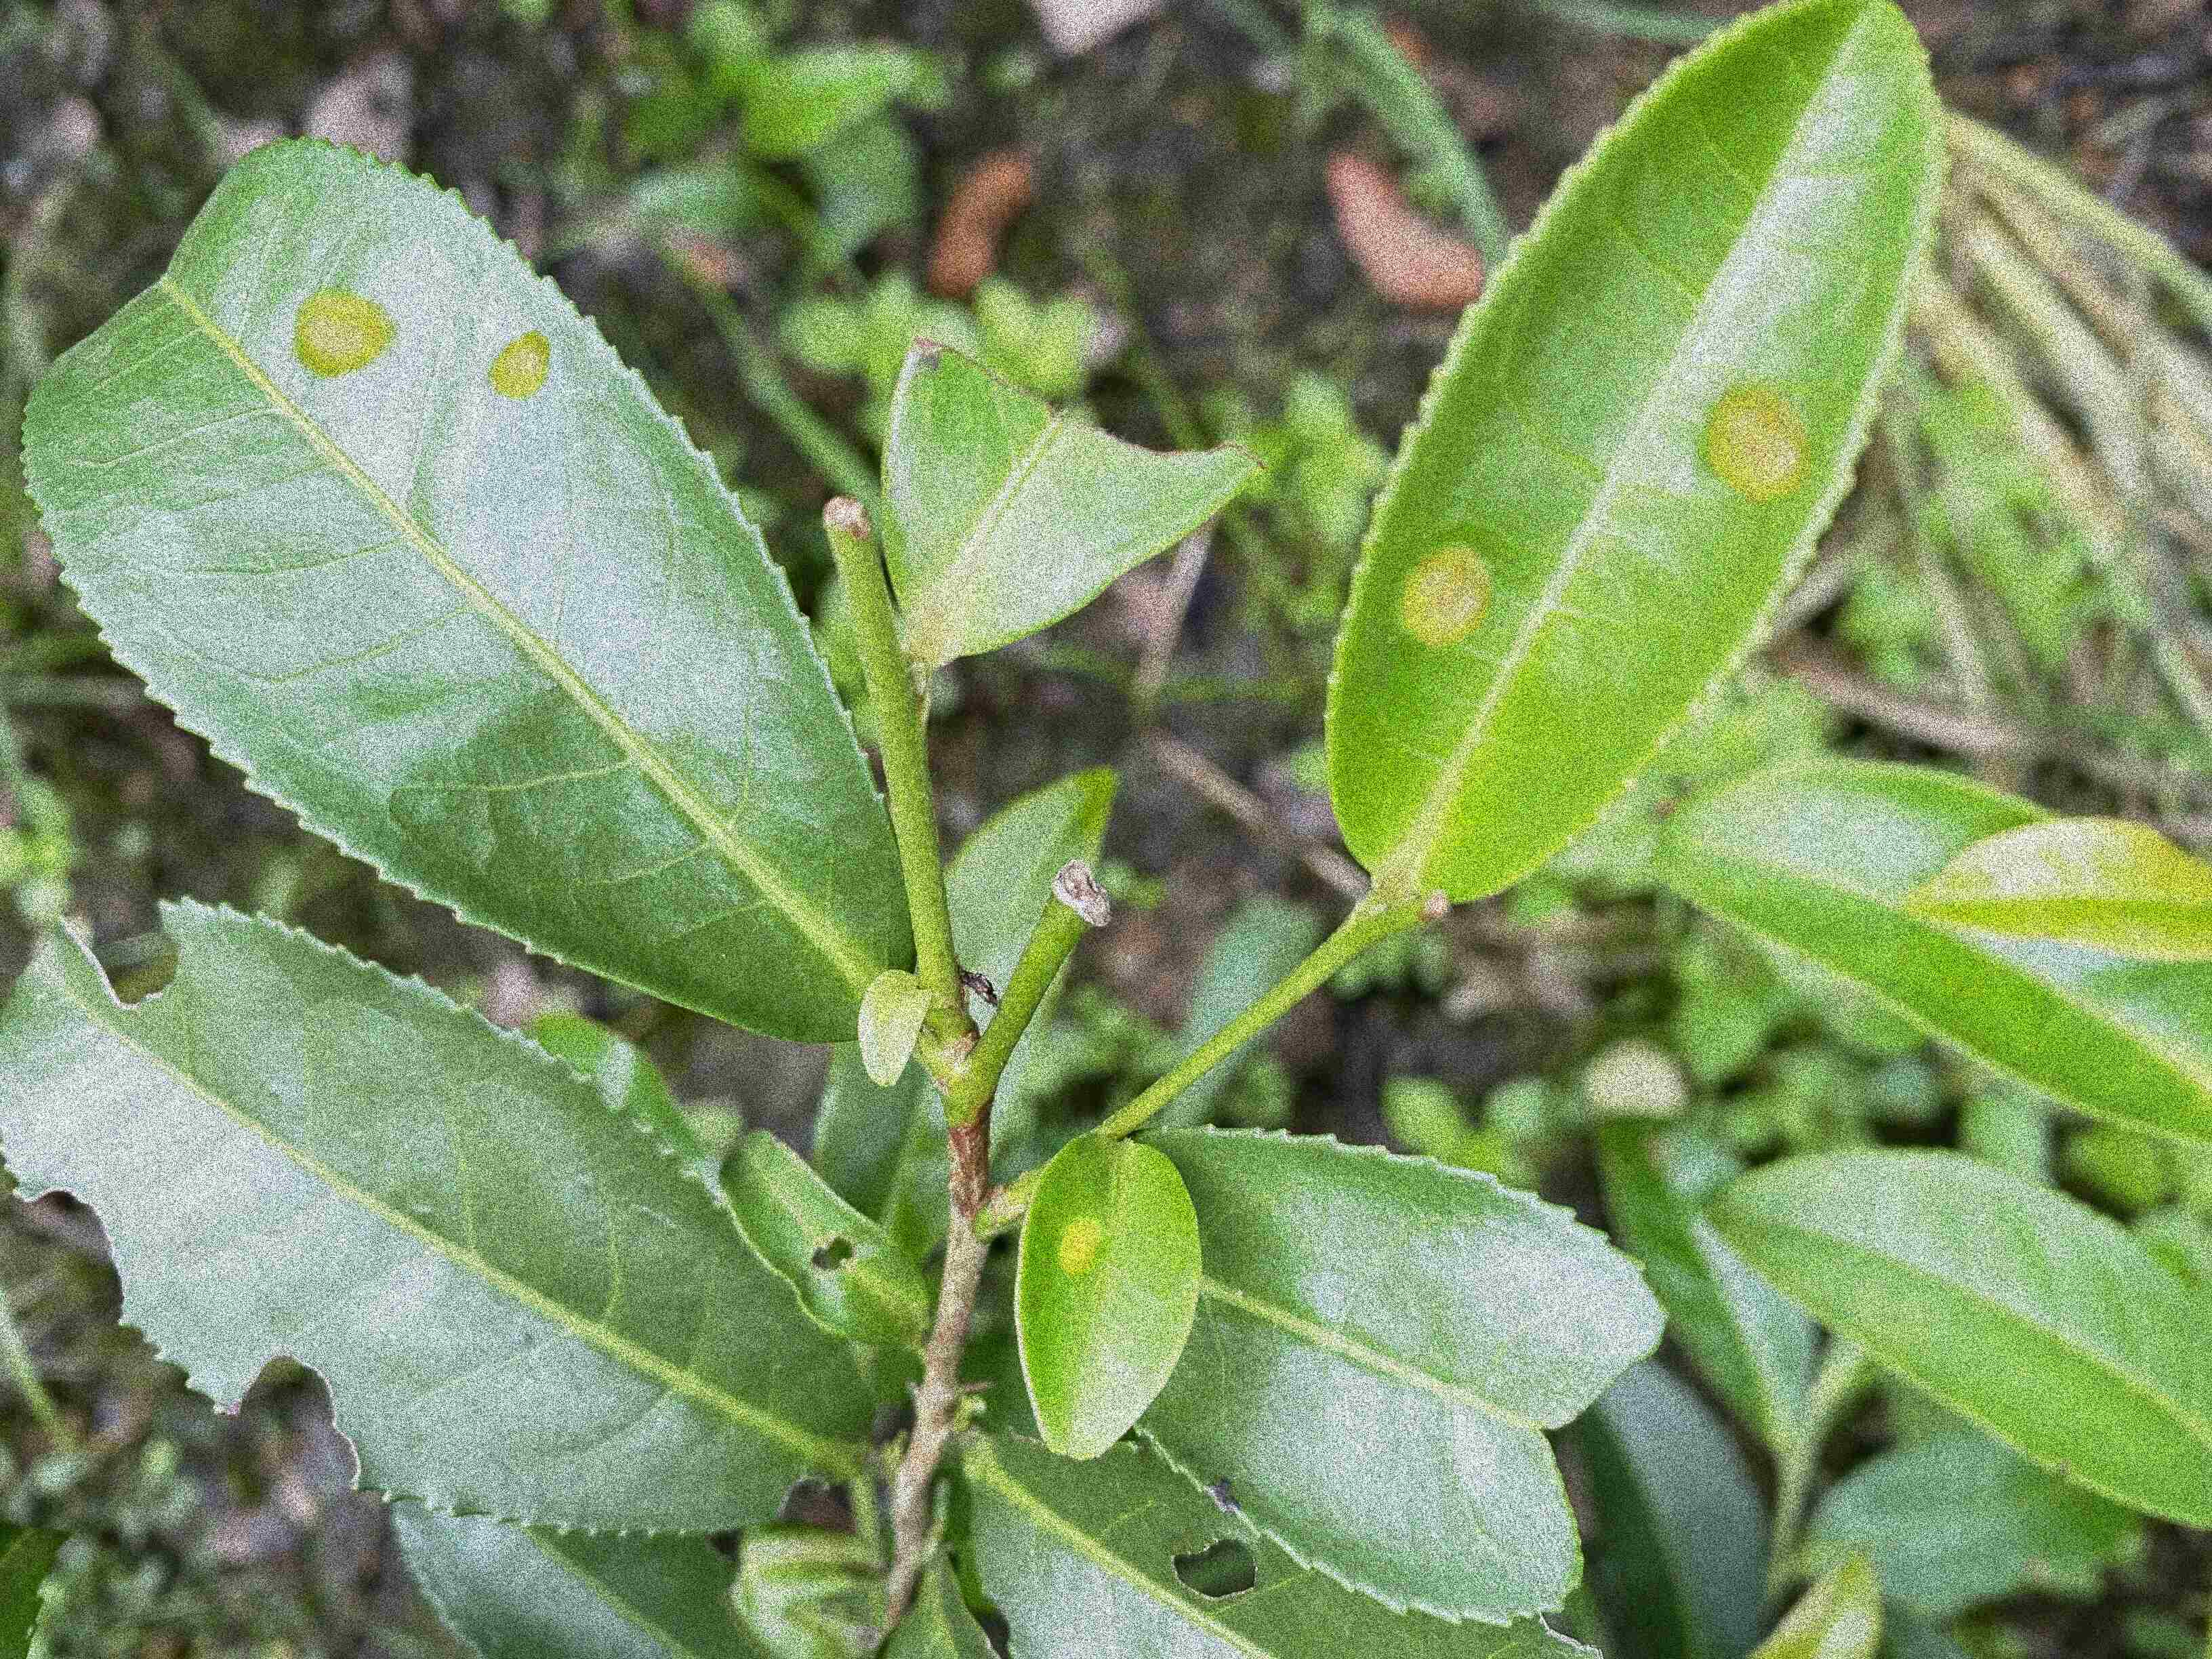chabing_high: (21, 129, 916, 1046), (1329, 3, 1949, 904)
chabing_low: (1015, 1127, 1200, 1462)
chihuo_high: (3, 892, 880, 1535), (1132, 1129, 1676, 1624), (880, 338, 1271, 659)
chihuo_low: (965, 1439, 1606, 1656), (719, 1124, 925, 1354)
healthy: (1707, 1148, 2212, 1537)
